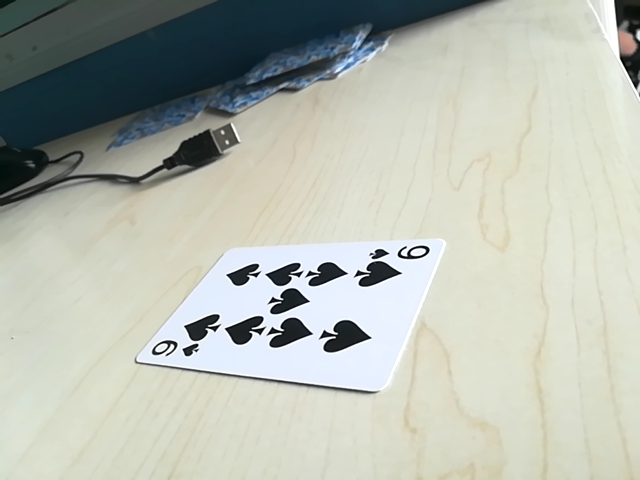ht 9: (141, 337, 204, 365), (366, 244, 435, 268)
